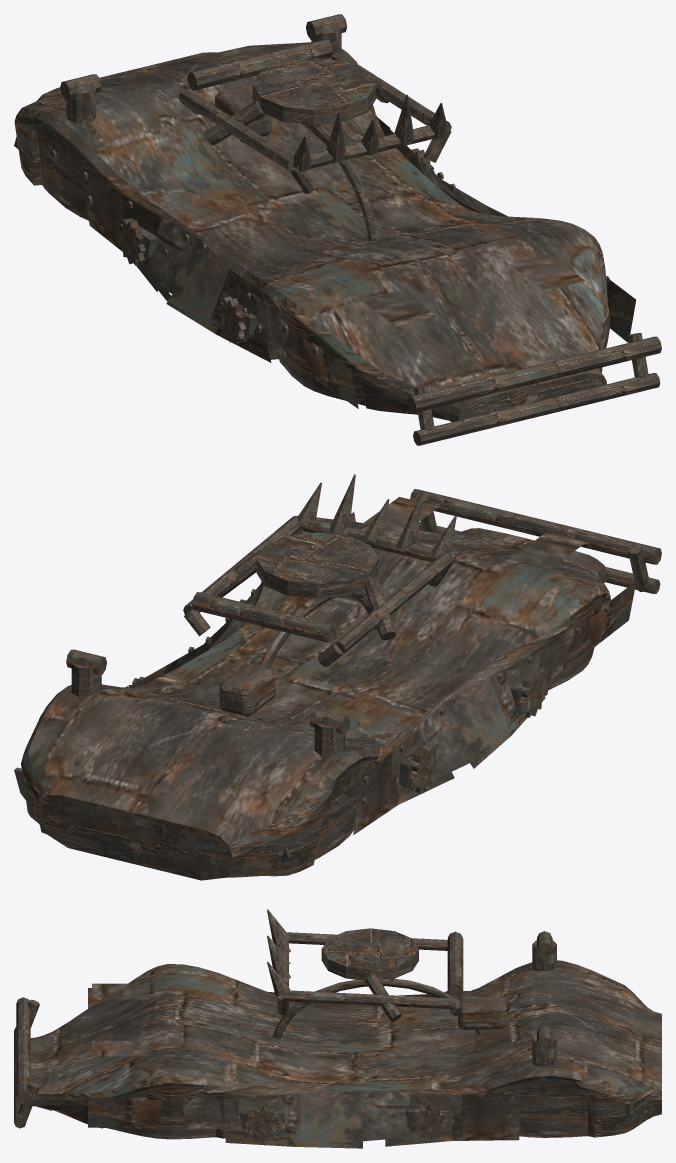
File: viper_proto.glb
3 renders of one model, top to bottom at view 1: azimuth 30°, elevation 25°; view 2: azimuth 150°, elevation 25°; view 3: azimuth 270°, elevation 25°, orthographic. The views are drawn at different scales.
Visible parts, largest first — view 1: kit-full-plating-painted-metal, kit-bull-bar-painted-metal, kit-turret-mount-painted-metal, kit-scrapper-painted-metal, kit-cage-painted-metal, warlord-crossbar, kit-crown-painted-metal, kit-plate-2-painted-metal, kit-raider-painted-metal, kit-stack-0-painted-metal, kit-plate-3-painted-metal, kit-saw-0-guard-painted-metal (+3 smaller); view 2: kit-full-plating-painted-metal, kit-turret-mount-painted-metal, kit-scrapper-painted-metal, kit-cage-painted-metal, kit-bull-bar-painted-metal, warlord-crossbar, kit-crown-painted-metal, kit-raider-painted-metal, kit-plate-2-painted-metal, kit-stack-0-painted-metal, kit-stack-1-painted-metal, kit-saw-0-guard-painted-metal (+2 smaller); view 3: kit-full-plating-painted-metal, kit-scrapper-painted-metal, kit-turret-mount-painted-metal, kit-plate-0-painted-metal, kit-raider-painted-metal, kit-cage-painted-metal, kit-bull-bar-painted-metal, kit-plate-1-painted-metal, kit-crown-painted-metal, kit-saw-0-painted-metal, kit-saw-1-painted-metal, warlord-crossbar (+2 smaller).
Boxes of the visible parts, x1,y1,x2,y2 form: kit-full-plating-painted-metal: [14, 42, 610, 421]; kit-bull-bar-painted-metal: [407, 333, 661, 445]; kit-turret-mount-painted-metal: [205, 58, 388, 145]; kit-scrapper-painted-metal: [122, 130, 507, 324]; kit-cage-painted-metal: [178, 52, 451, 193]; warlord-crossbar: [187, 39, 333, 90]; kit-crown-painted-metal: [293, 94, 447, 171]; kit-plate-2-painted-metal: [257, 300, 358, 408]; kit-raider-painted-metal: [85, 193, 271, 362]; kit-stack-0-painted-metal: [60, 74, 101, 124]; kit-plate-3-painted-metal: [40, 138, 124, 224]; kit-saw-0-guard-painted-metal: [117, 218, 158, 265]; kit-full-plating-painted-metal: [14, 497, 610, 880]; kit-turret-mount-painted-metal: [219, 532, 396, 640]; kit-scrapper-painted-metal: [128, 584, 540, 791]; kit-cage-painted-metal: [183, 515, 453, 666]; kit-bull-bar-painted-metal: [410, 489, 661, 593]; warlord-crossbar: [192, 592, 336, 642]; kit-crown-painted-metal: [297, 474, 456, 556]; kit-raider-painted-metal: [353, 670, 547, 834]; kit-plate-2-painted-metal: [540, 581, 636, 679]; kit-stack-0-painted-metal: [309, 709, 350, 756]; kit-stack-1-painted-metal: [66, 649, 106, 697]; kit-saw-0-guard-painted-metal: [399, 743, 437, 792]; kit-full-plating-painted-metal: [30, 960, 661, 1142]; kit-scrapper-painted-metal: [238, 991, 461, 1137]; kit-turret-mount-painted-metal: [321, 928, 418, 1021]; kit-plate-0-painted-metal: [88, 1097, 236, 1129]; kit-raider-painted-metal: [225, 1113, 519, 1148]; kit-cage-painted-metal: [277, 932, 461, 1016]; kit-bull-bar-painted-metal: [14, 997, 39, 1128]; kit-plate-1-painted-metal: [461, 1094, 561, 1126]; kit-crown-painted-metal: [267, 909, 290, 996]; kit-saw-0-painted-metal: [405, 1104, 451, 1140]; kit-saw-1-painted-metal: [239, 1106, 285, 1141]; warlord-crossbar: [447, 931, 463, 997].
Bounding box in the file's own units: 2.27 × 1.43 × 4.98.
1 material, 1 textured.
